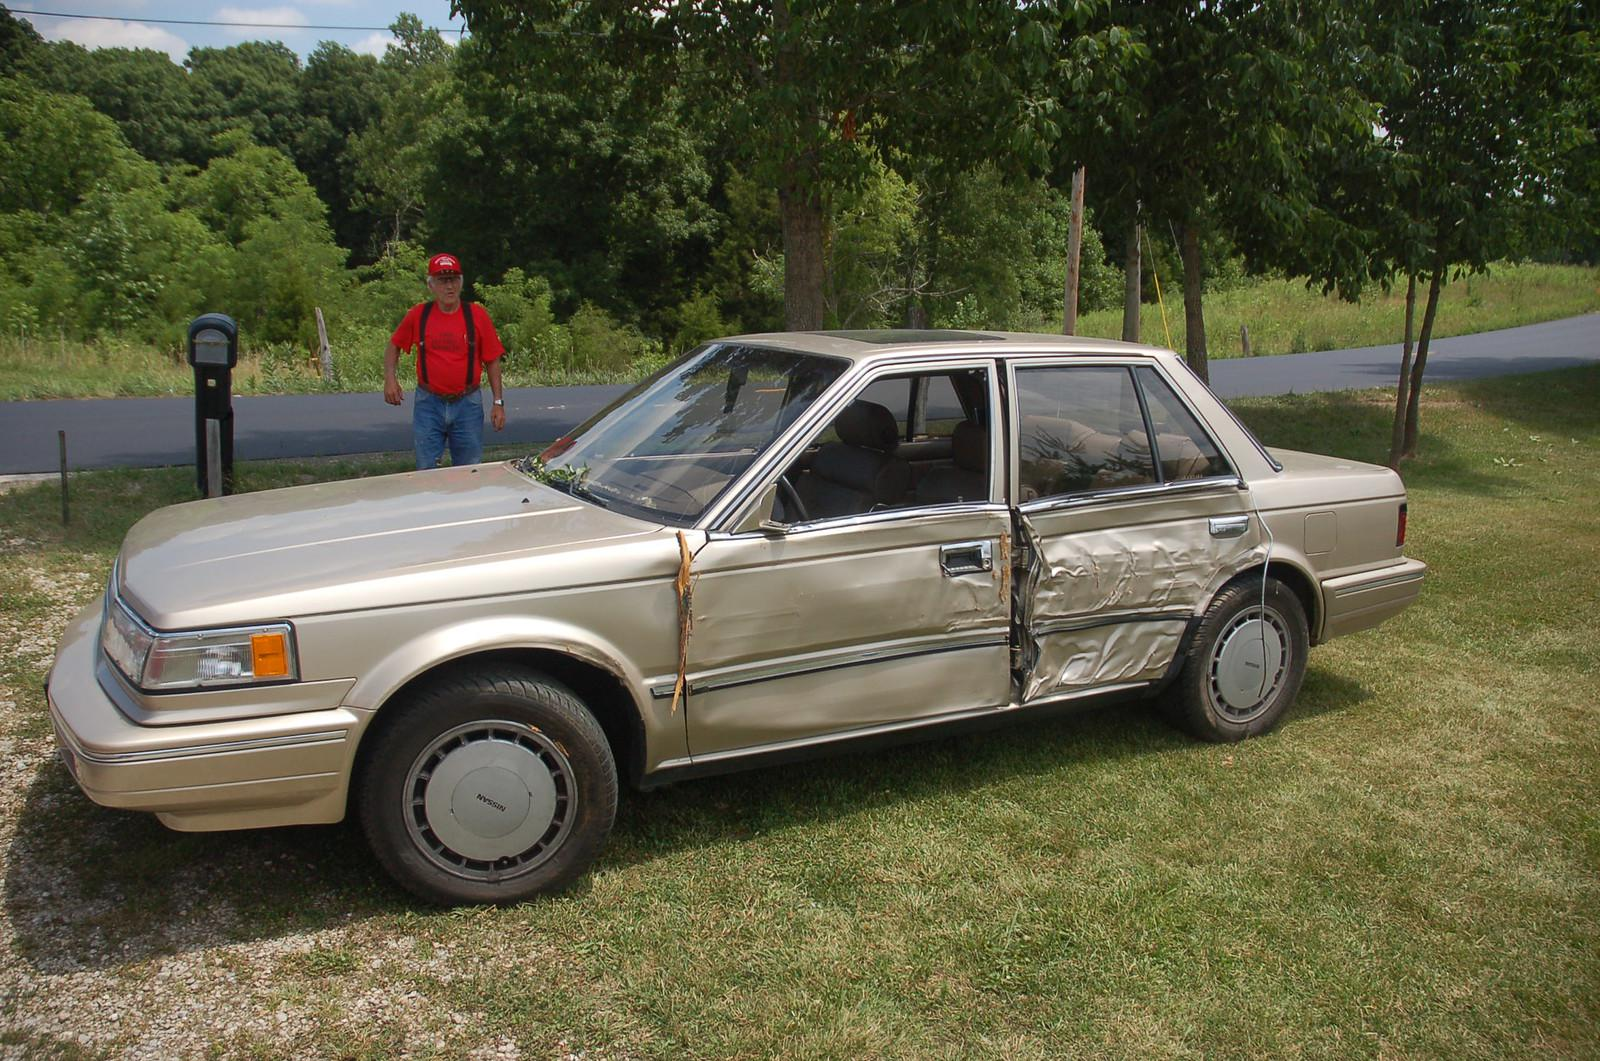doorouter-dent: (677, 545, 979, 720), (1003, 493, 1222, 690)
